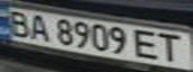0: (90, 21, 109, 52)
8: (51, 16, 75, 46)
9: (69, 19, 93, 49), (109, 24, 130, 56)
A: (27, 11, 54, 42)
B: (3, 8, 33, 38)
E: (133, 27, 163, 61)
T: (154, 30, 190, 63)
